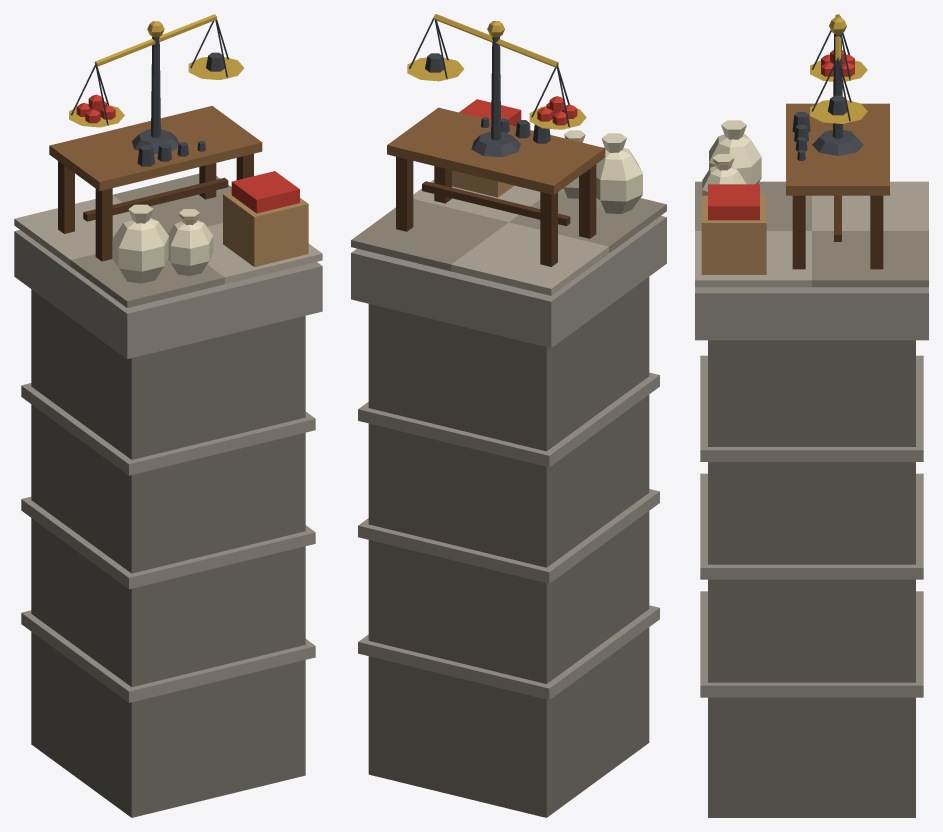
Rendered from decor_scale_stand.glb.
3 renders of one model, left to right at view 1: azimuth 30°, elevation 25°; view 2: azimuth 150°, elevation 25°; view 3: azimuth 270°, elevation 25°, orthographic. The views are drawn at different scales.
Parts seen in each view (by area): view 1: decor_scale_stand; view 2: decor_scale_stand; view 3: decor_scale_stand.
Part boxes in pixels (<box>): decor_scale_stand: <box>14,14,322,817</box>; decor_scale_stand: <box>351,14,666,817</box>; decor_scale_stand: <box>695,14,928,817</box>.
Bounding box in the file's own units: 1.8 × 6.42 × 1.8.
